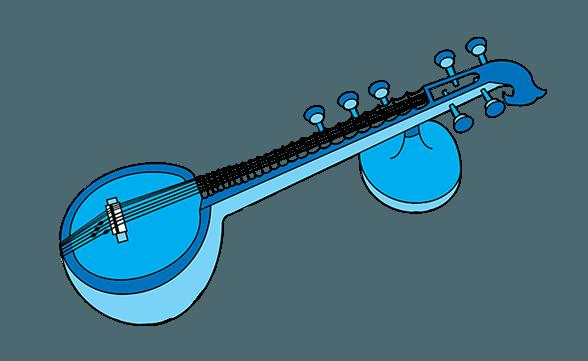Veena: (43, 50, 523, 330)
